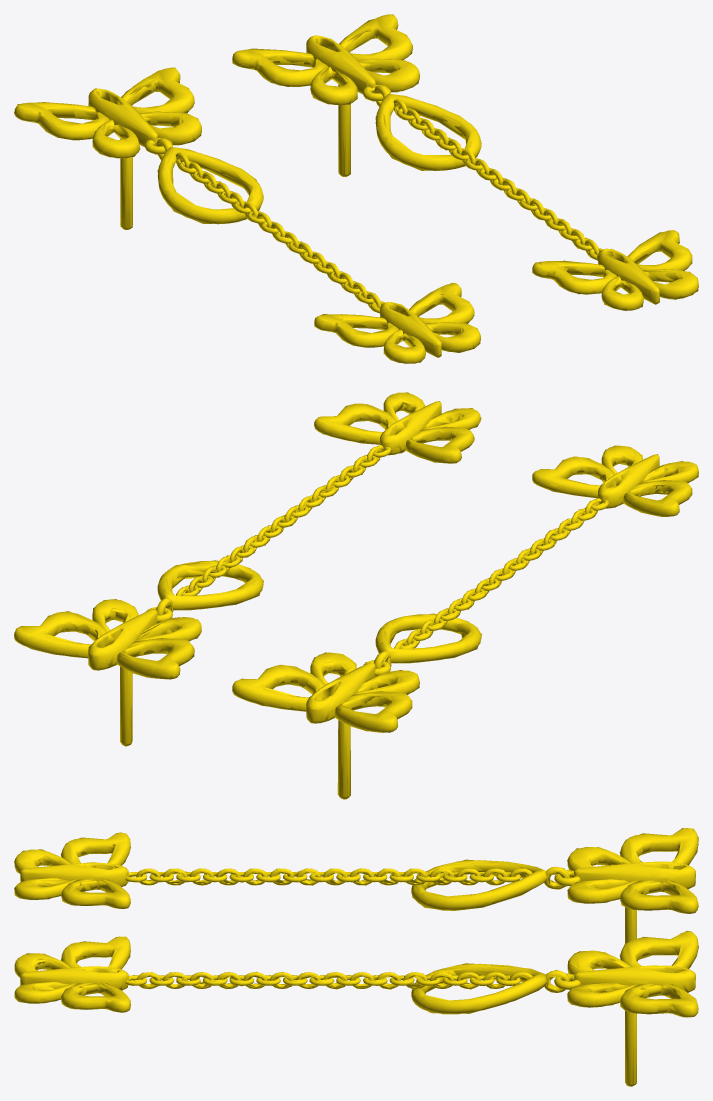
File: GP-SAD0003045.glb
3 renders of one model, top to bottom at view 1: azimuth 30°, elevation 25°; view 2: azimuth 150°, elevation 25°; view 3: azimuth 270°, elevation 25°, orthographic. The views are drawn at different scales.
Parts seen in each view (by area): view 1: highPolyMesh, lowPolyMesh; view 2: highPolyMesh, lowPolyMesh; view 3: highPolyMesh, lowPolyMesh.
Boxes of the visible parts, box(x1,y1,x2,y2) form: highPolyMesh: box(14, 14, 698, 363); lowPolyMesh: box(14, 14, 698, 362); highPolyMesh: box(14, 392, 698, 799); lowPolyMesh: box(14, 392, 698, 798); highPolyMesh: box(14, 828, 698, 1086); lowPolyMesh: box(14, 828, 698, 1086).
Size of the model in its own units: 0.0282 by 0.00864 by 0.045.
